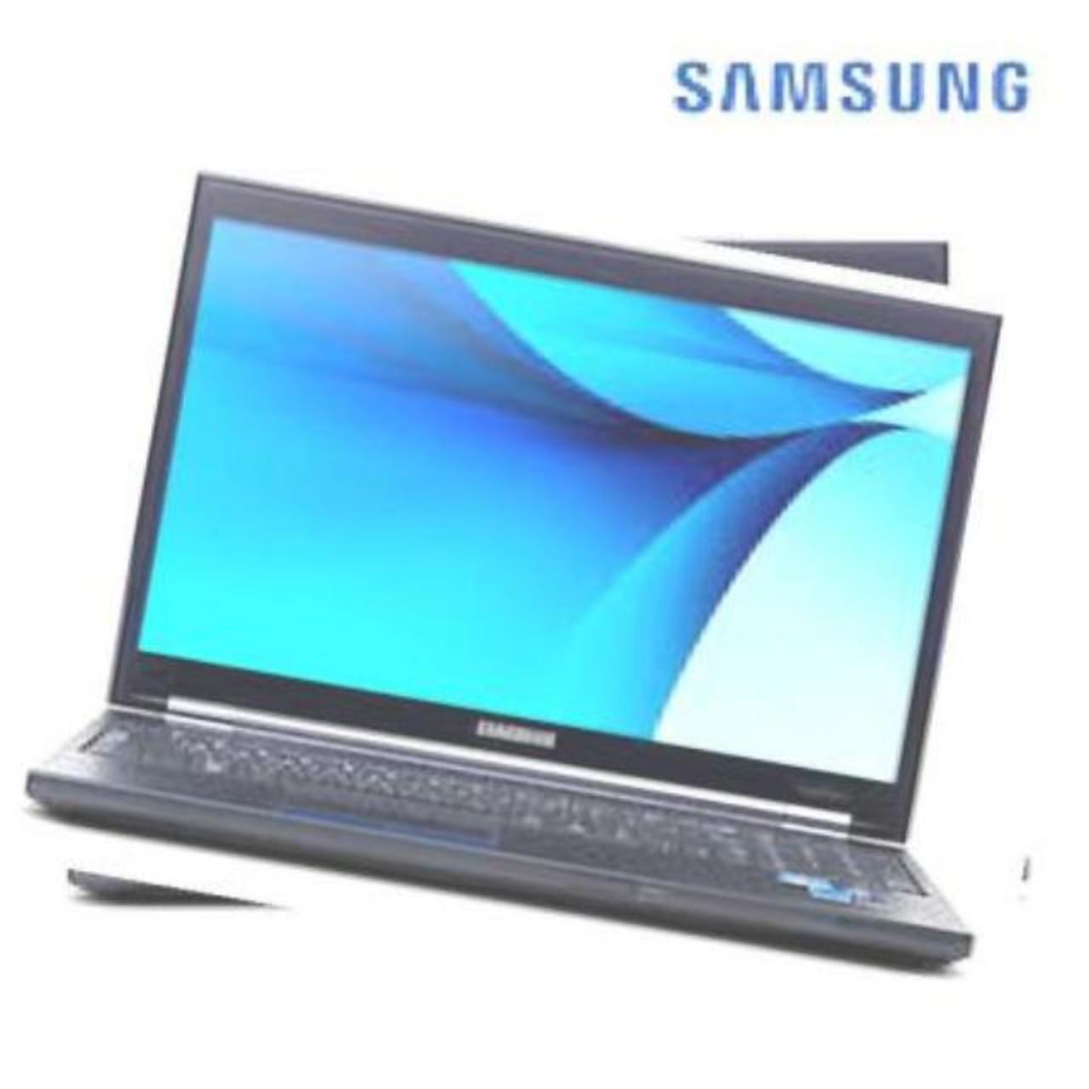laptop: (11, 181, 1088, 989)
